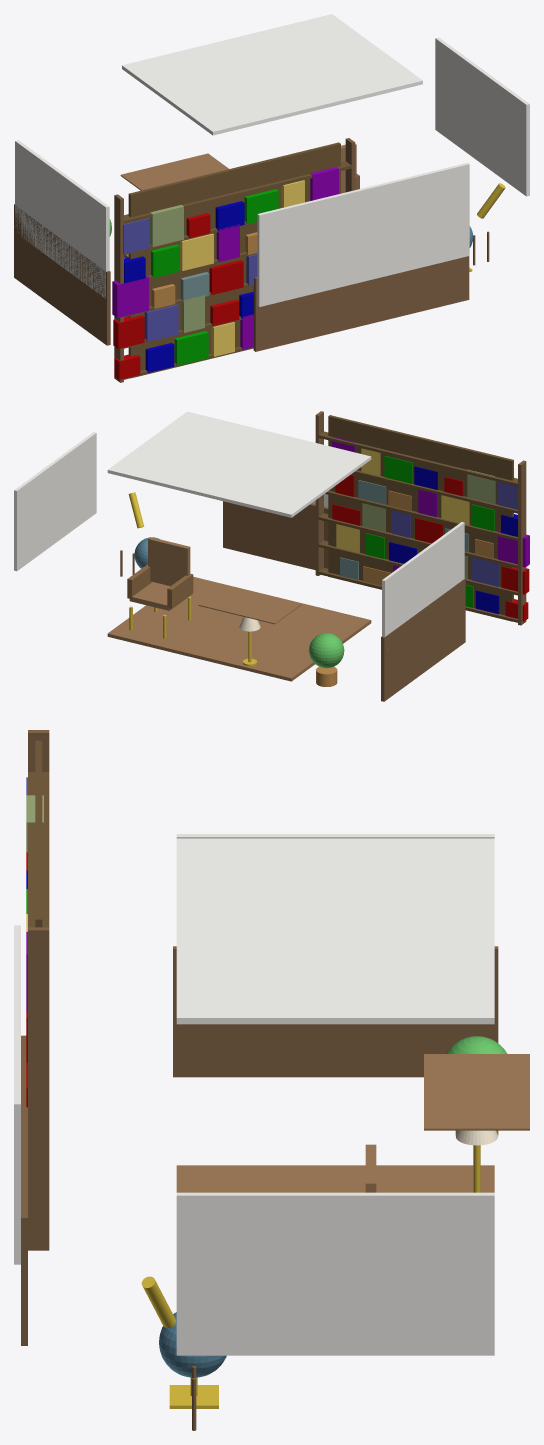
Rendered from baked_sage_room.glb.
3 renders of one model, top to bottom at view 1: azimuth 30°, elevation 25°; view 2: azimuth 150°, elevation 25°; view 3: azimuth 270°, elevation 25°, orthographic. The views are drawn at different scales.
Visible parts, largest first — view 1: BW, Ceil, WP, BCBack, RW, LW, WPL, DPad, SB14, SB29, SB23, SB8 (+23 smaller); view 2: Ceil, Floor, BCBack, RW, WPL, LW, WP, DPad, ACBack, BCSide-680, SPl, BS5 (+33 smaller); view 3: Ceil, RW, WPL, Floor, DPad, BCSide-20, BW, BS5, WP, LW, SGl, BCBack (+2 smaller).
Part boxes in pixels (x1,y1,x2,y2): BW: (257,163,469,306); Ceil: (122,14,422,135); WP: (253,256,469,351); BCBack: (128,142,340,378); RW: (435,37,529,196); LW: (15,140,109,298); WPL: (14,204,110,345); DPad: (120,153,228,190); SB14: (112,275,148,317); SB29: (150,205,183,247); SB23: (179,233,213,270); SB8: (144,304,178,341); Ceil: (107,411,371,517); Floor: (107,576,371,681); BCBack: (328,415,513,621); RW: (14,432,96,571); WPL: (381,578,465,701); LW: (382,522,464,636); WP: (223,501,328,569); DPad: (198,585,301,624); ACBack: (148,537,190,586); BCSide-680: (518,460,526,625); SPl: (309,633,344,668); BS5: (318,431,517,486); Ceil: (176,838,494,1024); RW: (176,1192,494,1355); WPL: (173,946,498,1077); Floor: (176,1165,494,1192); DPad: (424,1054,529,1130); BCSide-20: (28,927,49,1250); BW: (14,925,20,1264); BS5: (28,772,49,927); WP: (21,1035,27,1345); LW: (176,834,494,838); SGl: (159,1312,226,1377); BCBack: (35,740,42,927).
Size of the model in its own units: 1300 by 550 by 730.
